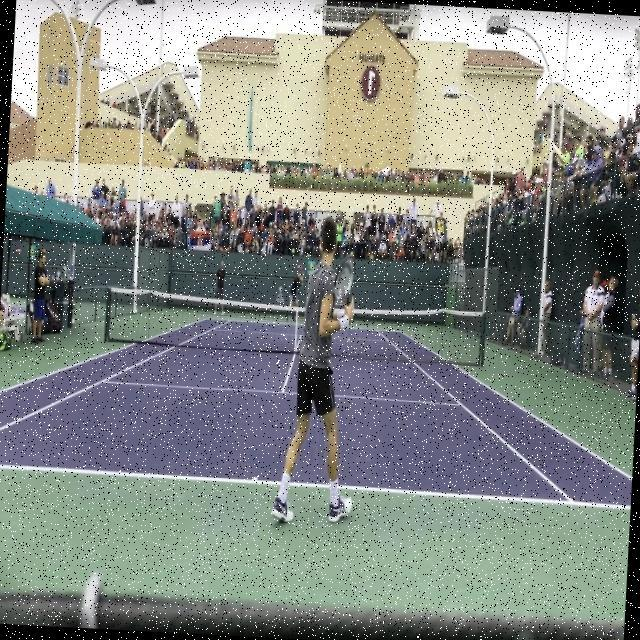court: (0, 306, 639, 509)
net: (102, 284, 487, 368)
player: (269, 213, 368, 528)
